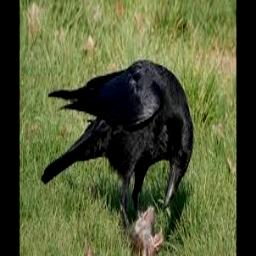Crow: (42, 59, 192, 231)
